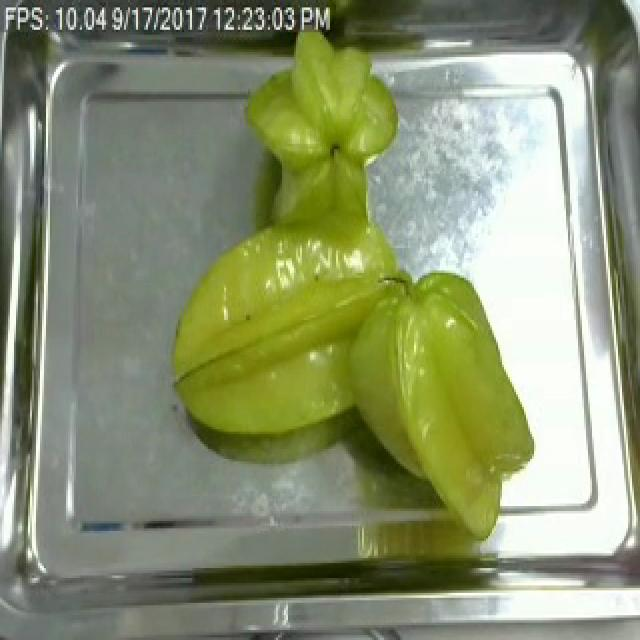fruit: (328, 258, 546, 551), (158, 208, 416, 449), (232, 22, 408, 179)
